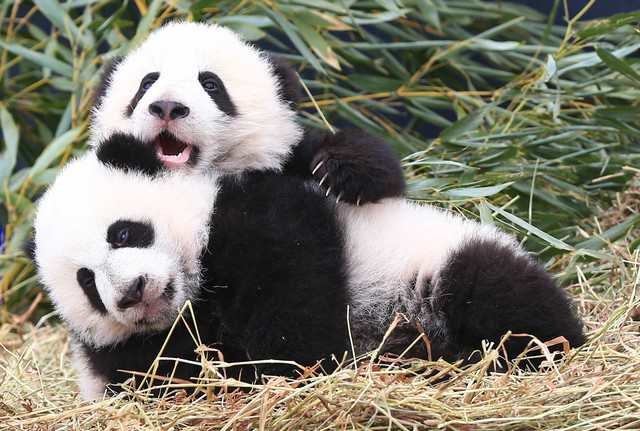panda: (32, 150, 588, 398), (95, 16, 403, 205)
